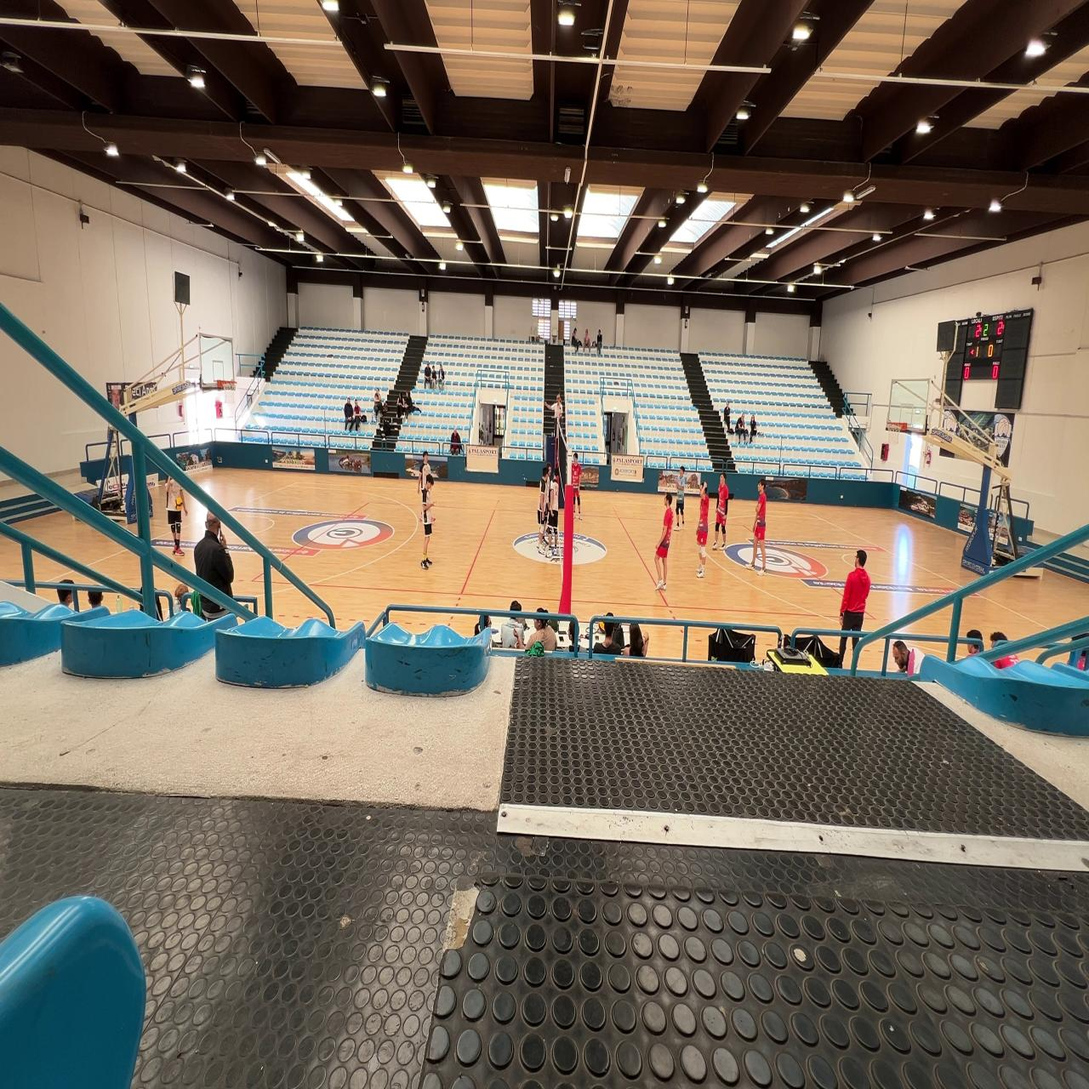ball: (175, 497, 183, 512)
